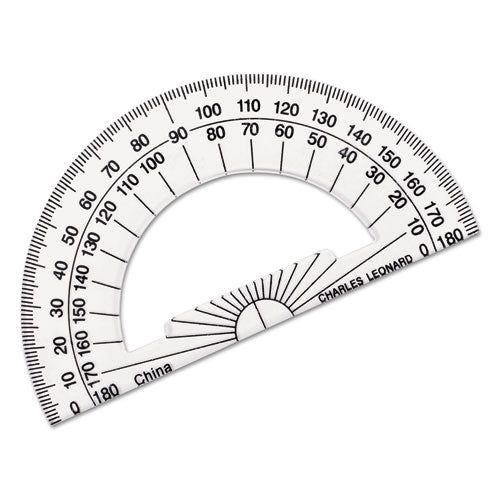PS: (22, 72, 482, 431)
